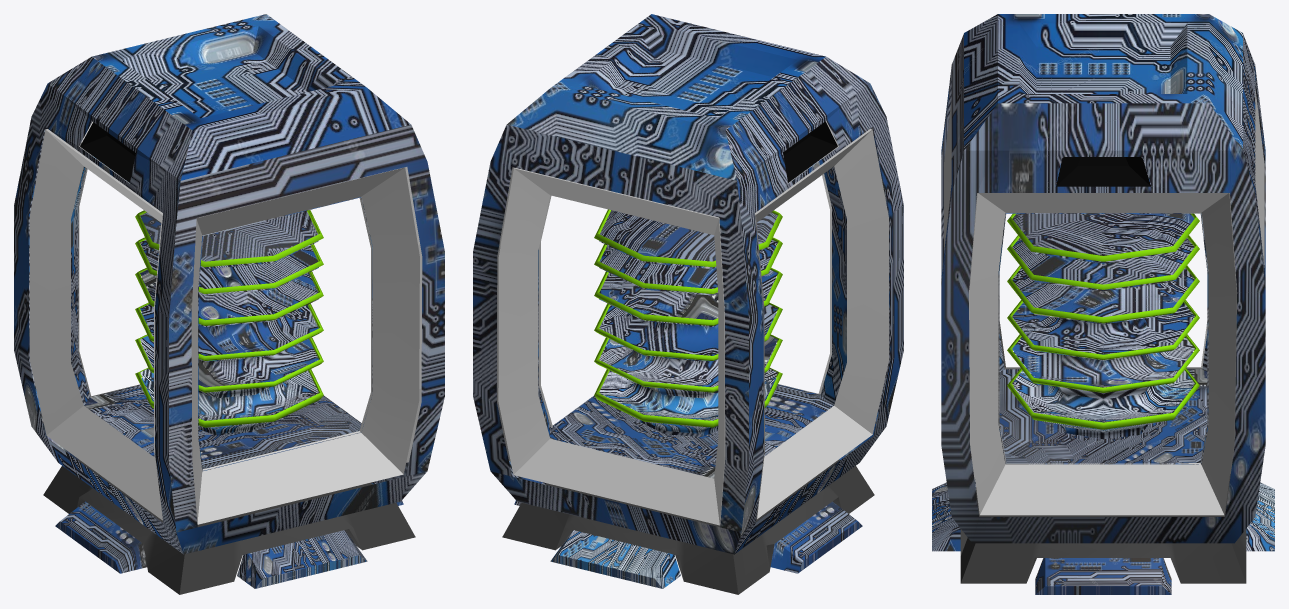
The model's file is Battery.fbx.
3 renders of one model, left to right at view 1: azimuth 30°, elevation 25°; view 2: azimuth 150°, elevation 25°; view 3: azimuth 270°, elevation 25°, orthographic. The views are drawn at different scales.
Parts seen in each view (by area): view 1: polySurface17, polySurface1, polySurface16, polySurface4, pCube2, polySurface18, pCube4, pCube3, polySurface6, polySurface15, polySurface10, polySurface12 (+5 smaller); view 2: polySurface17, polySurface3, polySurface16, polySurface4, polySurface18, pCube2, pCube4, pCube3, polySurface6, polySurface15, polySurface10, polySurface2 (+5 smaller); view 3: polySurface17, polySurface2, polySurface16, polySurface18, pCube2, pCube3, pCube4, polySurface8, polySurface15, polySurface12, polySurface10, polySurface13 (+4 smaller).
Part boxes in pixels (bbox=[...]): polySurface17: bbox=[14, 14, 444, 554]; polySurface1: bbox=[191, 167, 419, 524]; polySurface16: bbox=[140, 210, 318, 435]; polySurface4: bbox=[29, 129, 162, 520]; pCube2: bbox=[43, 459, 415, 594]; polySurface18: bbox=[71, 153, 372, 471]; pCube4: bbox=[237, 530, 367, 588]; pCube3: bbox=[55, 500, 403, 573]; polySurface6: bbox=[80, 122, 135, 182]; polySurface15: bbox=[135, 368, 323, 427]; polySurface10: bbox=[135, 210, 323, 267]; polySurface12: bbox=[135, 267, 323, 325]; polySurface17: bbox=[473, 14, 903, 554]; polySurface3: bbox=[498, 168, 725, 525]; polySurface16: bbox=[599, 210, 777, 436]; polySurface4: bbox=[755, 129, 888, 519]; polySurface18: bbox=[538, 159, 846, 478]; pCube2: bbox=[502, 459, 874, 594]; pCube4: bbox=[550, 530, 680, 588]; pCube3: bbox=[514, 500, 862, 573]; polySurface6: bbox=[783, 121, 837, 182]; polySurface15: bbox=[594, 368, 782, 427]; polySurface10: bbox=[594, 209, 782, 267]; polySurface2: bbox=[497, 167, 552, 461]; polySurface17: bbox=[941, 14, 1265, 543]; polySurface2: bbox=[969, 193, 1236, 515]; polySurface16: bbox=[1012, 213, 1194, 439]; polySurface18: bbox=[998, 157, 1208, 464]; pCube2: bbox=[960, 473, 1246, 583]; pCube3: bbox=[1035, 558, 1171, 594]; pCube4: bbox=[932, 482, 1274, 551]; polySurface8: bbox=[1056, 157, 1150, 186]; polySurface15: bbox=[1007, 368, 1199, 429]; polySurface12: bbox=[1007, 265, 1199, 323]; polySurface10: bbox=[1007, 213, 1199, 261]; polySurface13: bbox=[1007, 300, 1199, 359].
Size of the model in its own units: 1.84 by 2.76 by 1.84.
